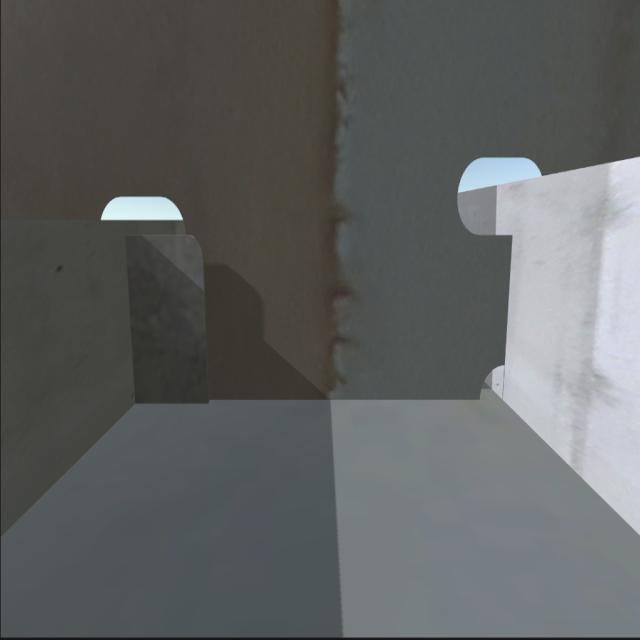fillet_hole: (475, 364, 510, 408)
fillet_yong_jeop_jang: (128, 390, 478, 414)
longi_yong_jeop_jang: (121, 239, 145, 400), (498, 234, 516, 360)
plate_CP05: (135, 235, 211, 399)
